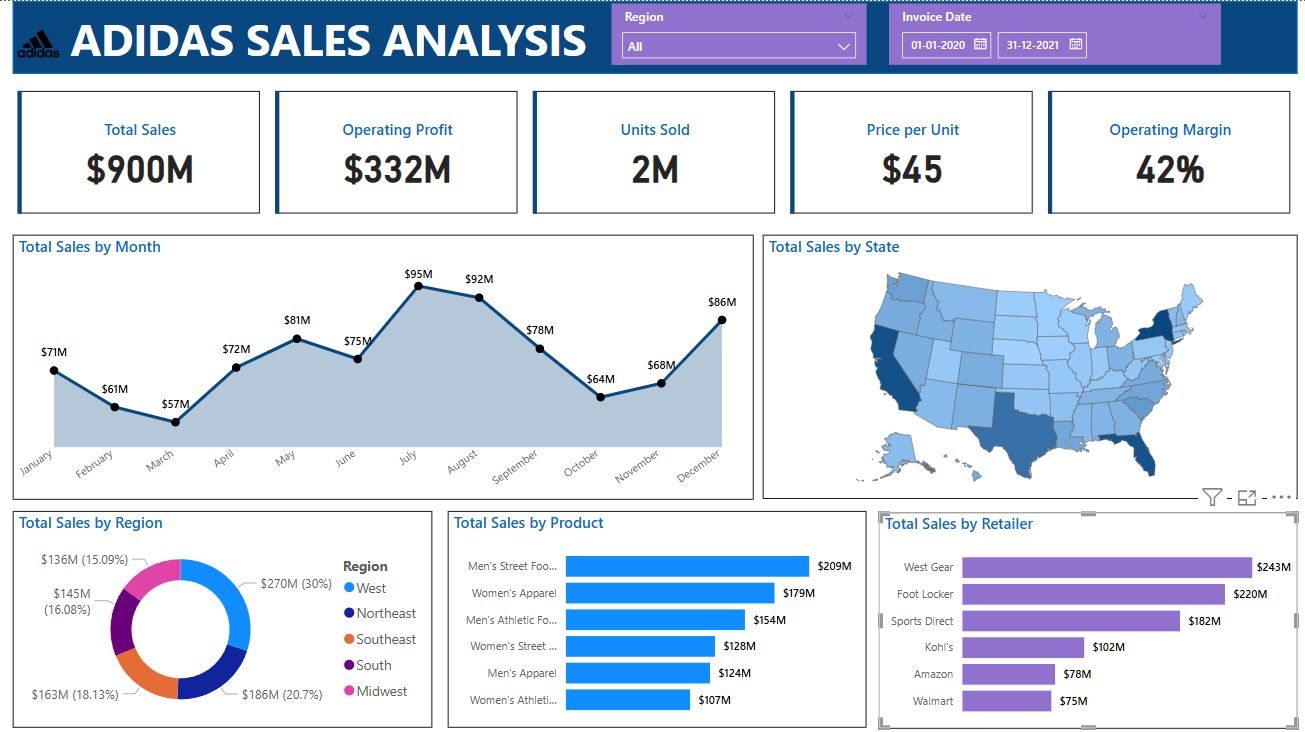

This screenshot's page, from the dashboard's own definition file:
{"tool":"powerbi","page":{"name":"Page 1","canvas":[1280,720],"ordinal":0},"visuals":[{"type":"shape","box":[13.7,0,1257,71.4],"z":0},{"type":"textbox","box":[64.4,2.7,553.2,65.7],"z":1000},{"type":"cardVisual","fields":{"Data":["Sum(Data Sales Adidas.Total Sales)","Sum(Data Sales Adidas.Operating Profit)","Sum(Data Sales Adidas.Units Sold)","Avg(Data Sales Adidas.Price per Unit)","Avg(Data Sales Adidas.Operating Margin)"]},"box":[13.7,83.5,1257,130.1],"z":2000},{"type":"areaChart","title":"Total Sales by Month","fields":{"Category":["Data Sales Adidas.Invoice Date.Variation.Date Hierarchy.Month"],"Y":["Sum(Data Sales Adidas.Total Sales)"]},"box":[13.7,229.2,724.5,259.3],"z":3000},{"type":"shapeMap","title":"Total Sales by State","fields":{"Category":["Data Sales Adidas.State"],"Value":["Sum(Data Sales Adidas.Total Sales)"]},"box":[747.6,228.7,523.1,258.8],"z":4000},{"type":"donutChart","fields":{"Category":["Data Sales Adidas.Region"],"Y":["Sum(Data Sales Adidas.Total Sales)"]},"box":[13.7,498.4,410,212.2],"z":5000},{"type":"barChart","title":"Total Sales by Product","fields":{"Category":["Data Sales Adidas.Product"],"Y":["Sum(Data Sales Adidas.Total Sales)"]},"box":[439.5,498.4,409.4,212.2],"z":6000},{"type":"barChart","title":"Total Sales by Retailer","fields":{"Y":["Sum(Data Sales Adidas.Total Sales)"],"Category":["Data Sales Adidas.Retailer"]},"box":[861.3,499.8,409.4,212.2],"z":7000},{"type":"slicer","fields":{"Values":["Data Sales Adidas.Region"]},"box":[599.7,2.7,249.2,60.2],"z":8000},{"type":"slicer","fields":{"Values":["Data Sales Adidas.Invoice Date"]},"box":[870.9,2.7,324.5,60.2],"z":9000},{"type":"image","box":[13.7,0,50.7,83.5],"z":10000}]}

Visuals, with their boxes in screenshot pixels (x1, y1, x2, y2), scaled from the page's 1280x720 canvas onto the 1305x732 screenshot:
shape: (x1=14, y1=0, x2=1296, y2=73)
textbox: (x1=66, y1=3, x2=630, y2=70)
cardVisual - Sum(Data Sales Adidas.Total Sales) x Sum(Data Sales Adidas.Operating Profit): (x1=14, y1=85, x2=1296, y2=217)
"Total Sales by Month" areaChart: (x1=14, y1=233, x2=753, y2=497)
"Total Sales by State" shapeMap: (x1=762, y1=233, x2=1296, y2=496)
donutChart - Data Sales Adidas.Region x Sum(Data Sales Adidas.Total Sales): (x1=14, y1=507, x2=432, y2=722)
"Total Sales by Product" barChart: (x1=448, y1=507, x2=865, y2=722)
"Total Sales by Retailer" barChart: (x1=878, y1=508, x2=1296, y2=724)
slicer - Data Sales Adidas.Region: (x1=611, y1=3, x2=865, y2=64)
slicer - Data Sales Adidas.Invoice Date: (x1=888, y1=3, x2=1219, y2=64)
image: (x1=14, y1=0, x2=66, y2=85)
